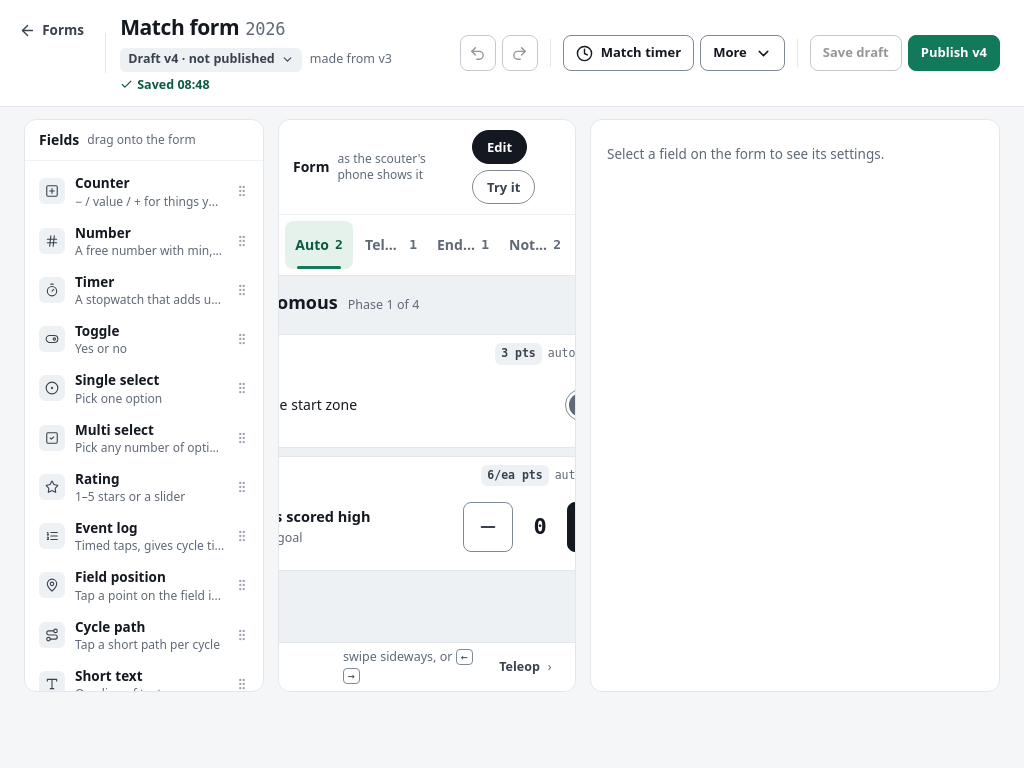
Test case: Match timer (task 1.32, SPEC-FINAL 8.4) › updates the total live as a length changes
Expected: the element "Form" is shown, [278,119,576,692]
Click the button "Match timer": (628, 53) [563,35,694,71]
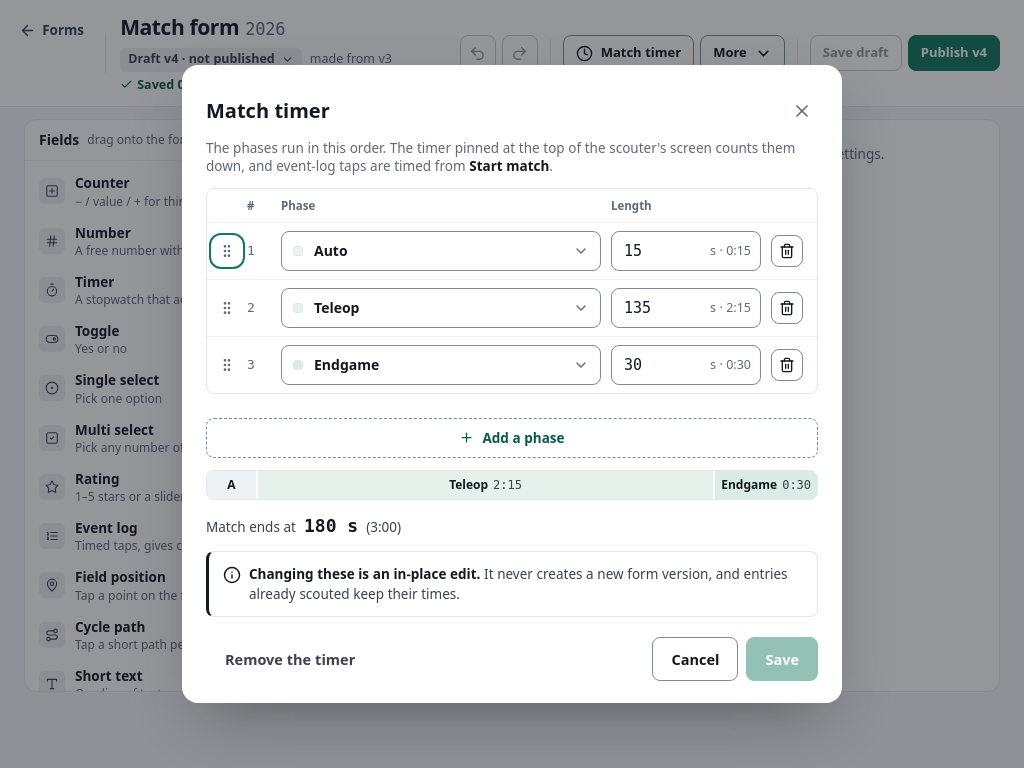
Clear the field named "Teleop length in seconds": (686, 308) [611,288,761,328]
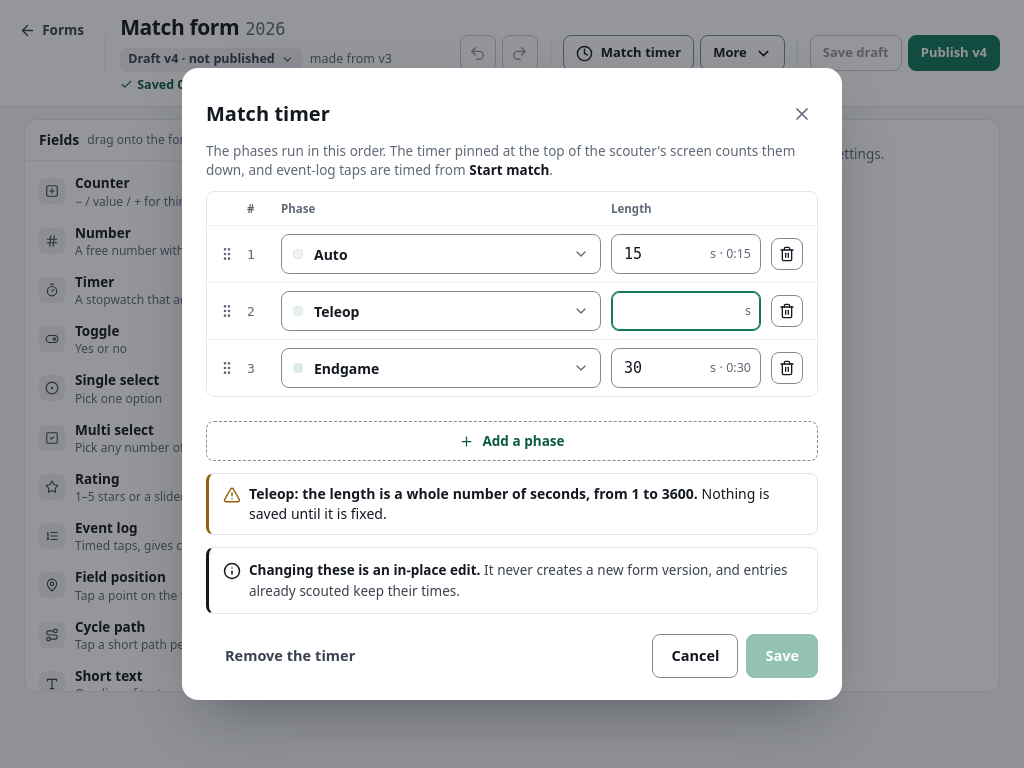
In the field named "Teleop length in seconds": (686, 311) [611,291,761,331], type "120"
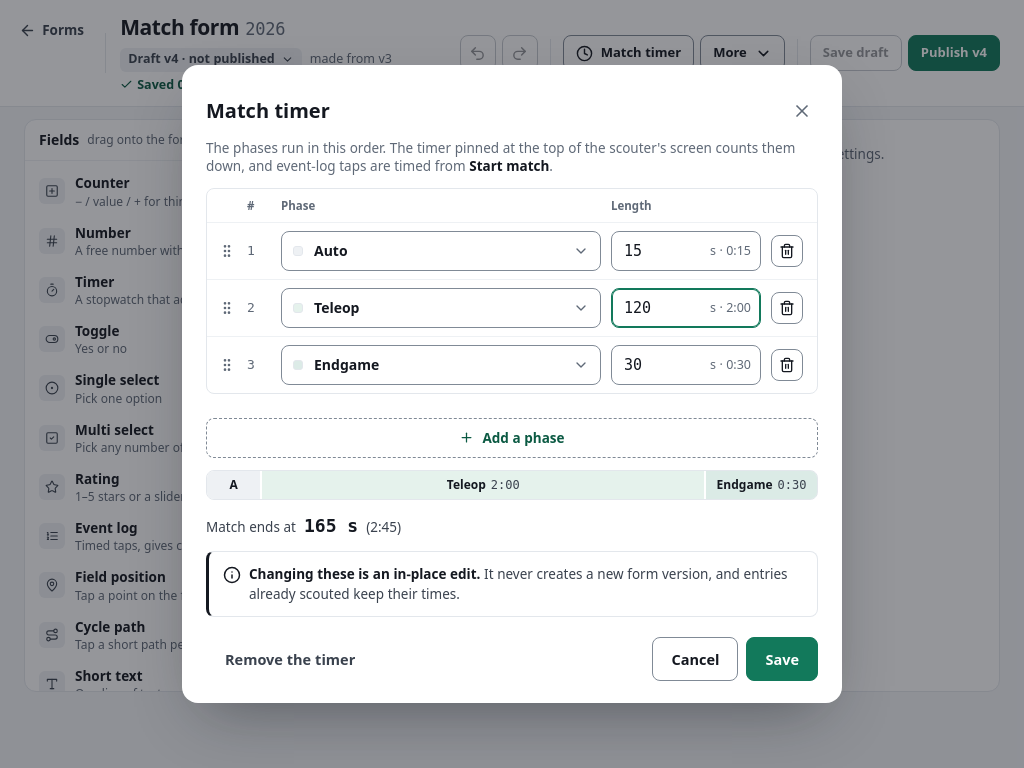
Expected: the text "Match ends at 165 s (2:45)" is shown, [206,515,401,536]
Expected: the button "Save" is enabled, [746,637,818,681]
